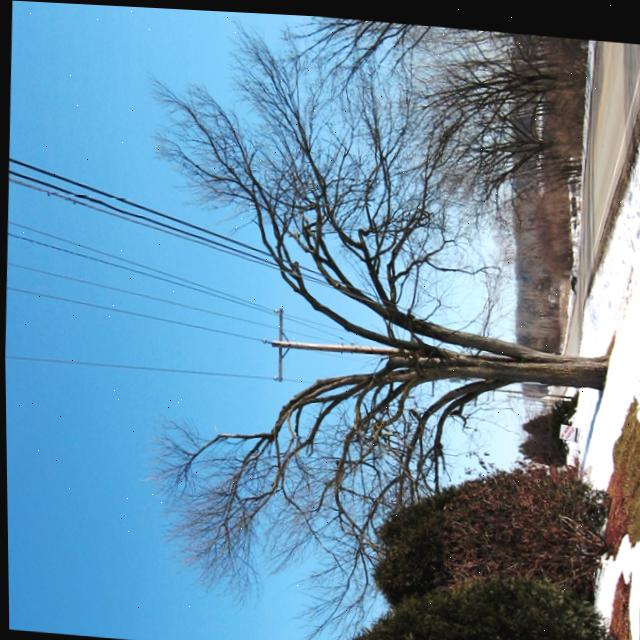obstruction: (253, 234, 304, 278)
wires: (4, 159, 282, 378)
